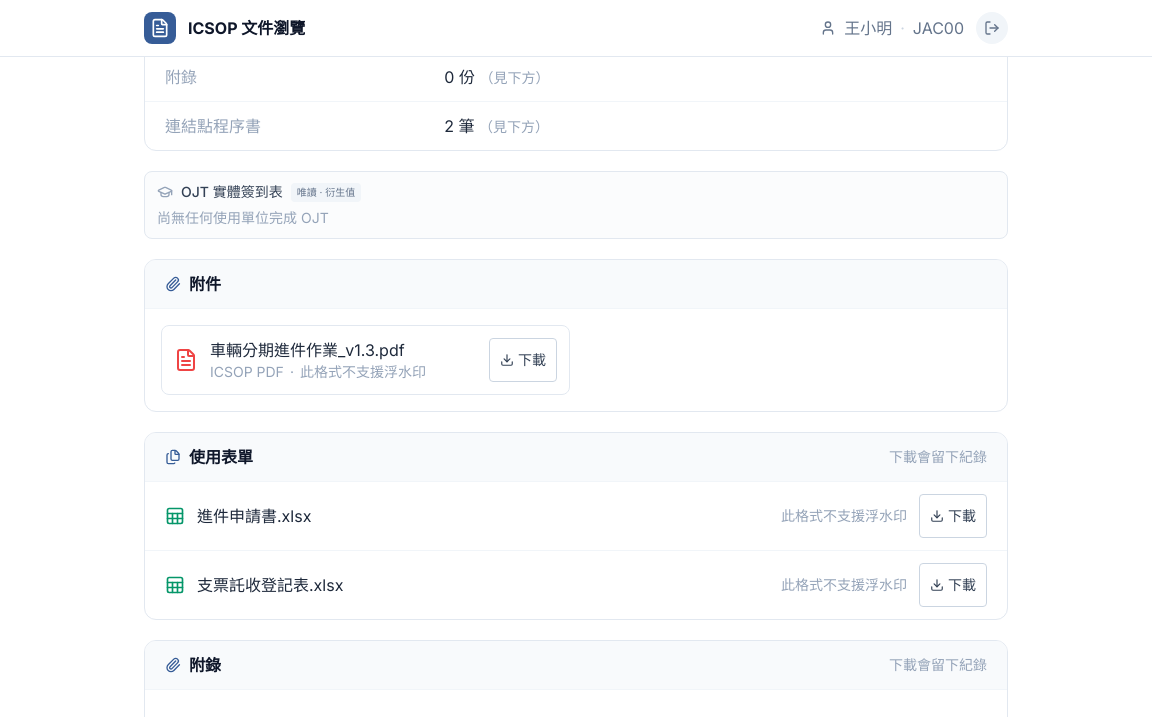
it: PublicDocumentDetailPage（G-PUB-020 前台文件詳情） › 附件區呈現 ICSOP PDF 之類別標籤（OJT 已不在附件區）；下載走前台代理串流端點＋toast
(page scrolled)
Expected: the text "ICSOP PDF" is shown, [210,362,284,382]
What coordinates should you click on to do the following:
click the button with aria-label "下載 車輛分期進件作業_v1.3.pdf"
I would click on:
 (523, 360)
Its box is [489,338,557,382].
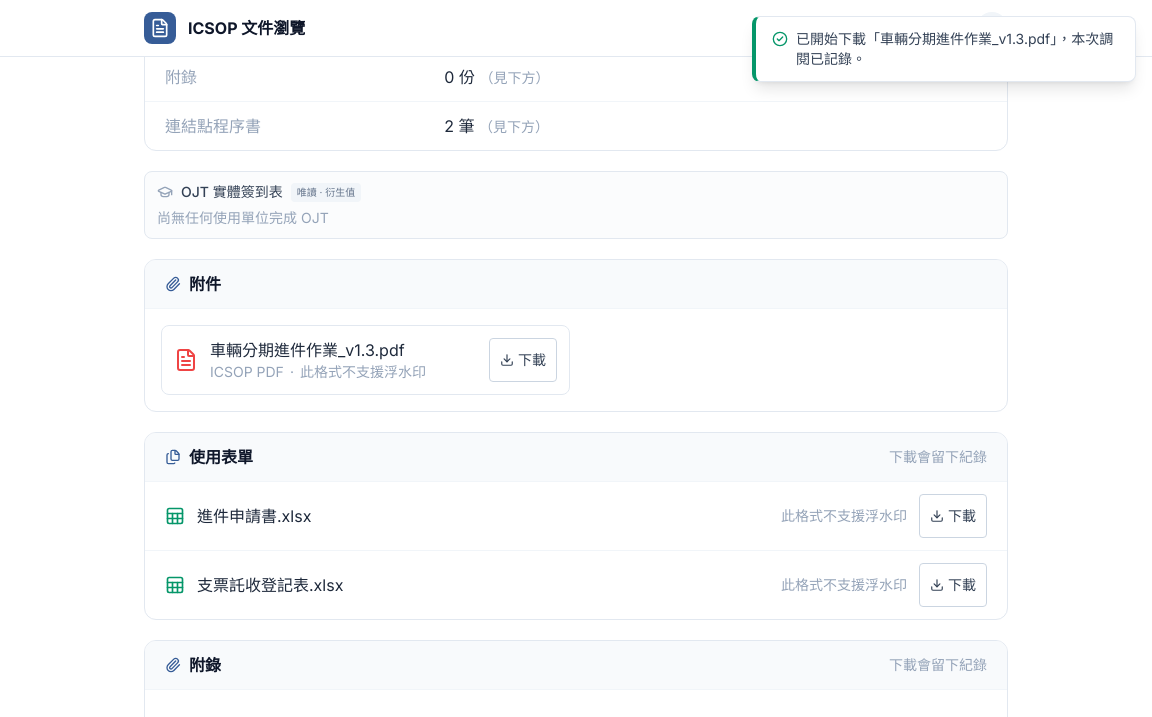
Now the text "已開始下載「車輛分期進件作業_v1.3.pdf」，本次調閱已記錄。" is shown, box [796,29,1119,69]
